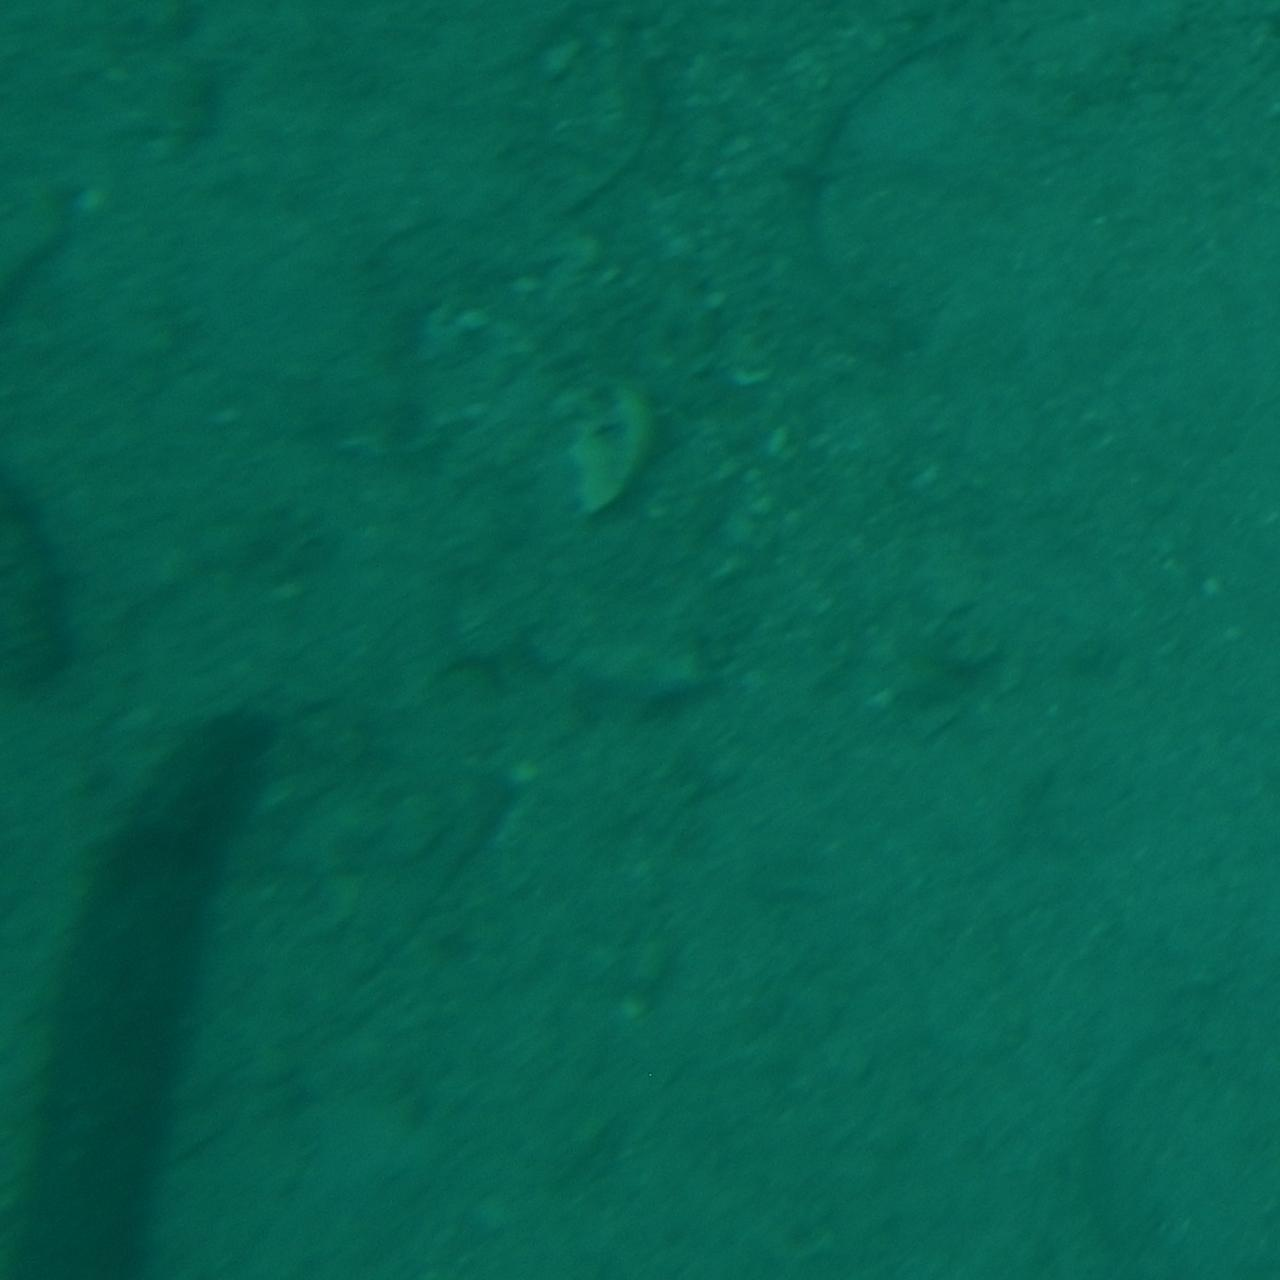Holothuria tubulosa: (0, 695, 311, 1279)
